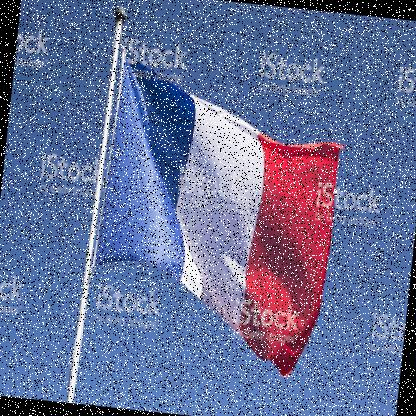fr: (89, 41, 351, 381)
